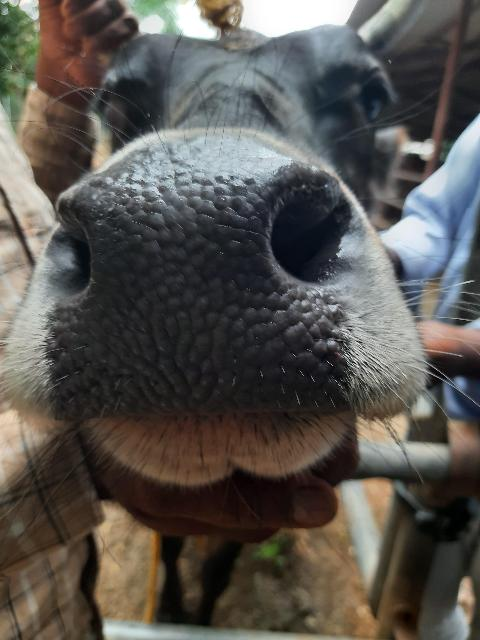Muzzle: (81, 174, 271, 420)
